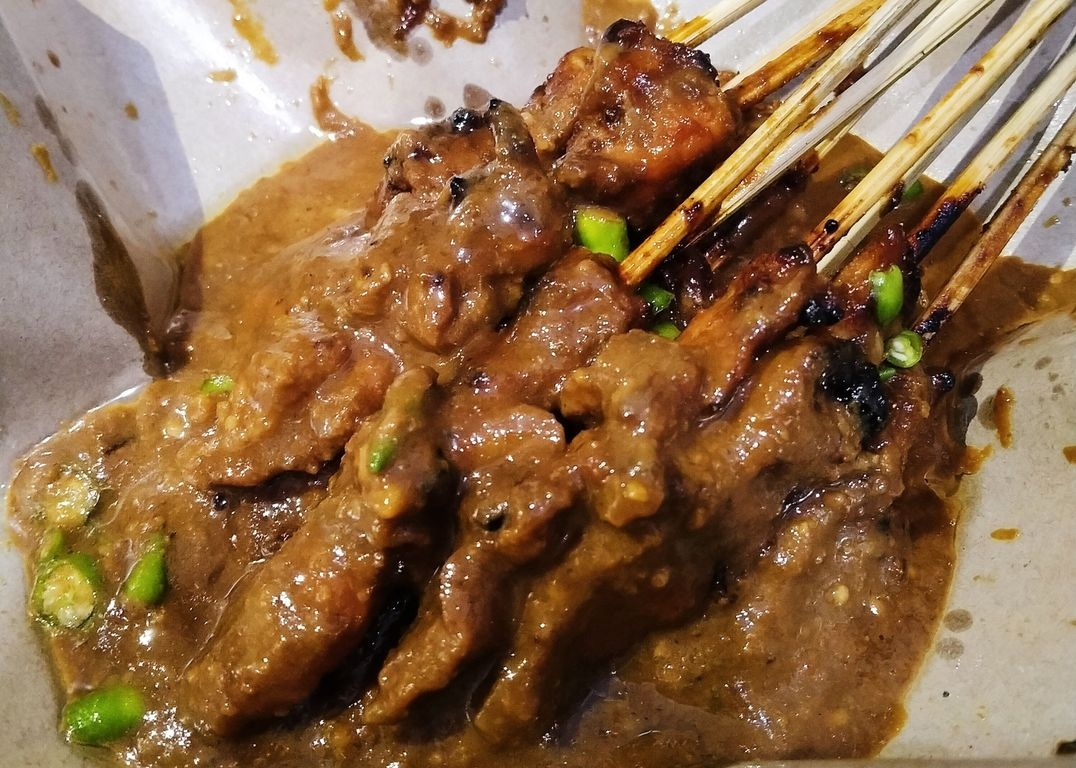sate_madura: (172, 2, 1076, 742)
